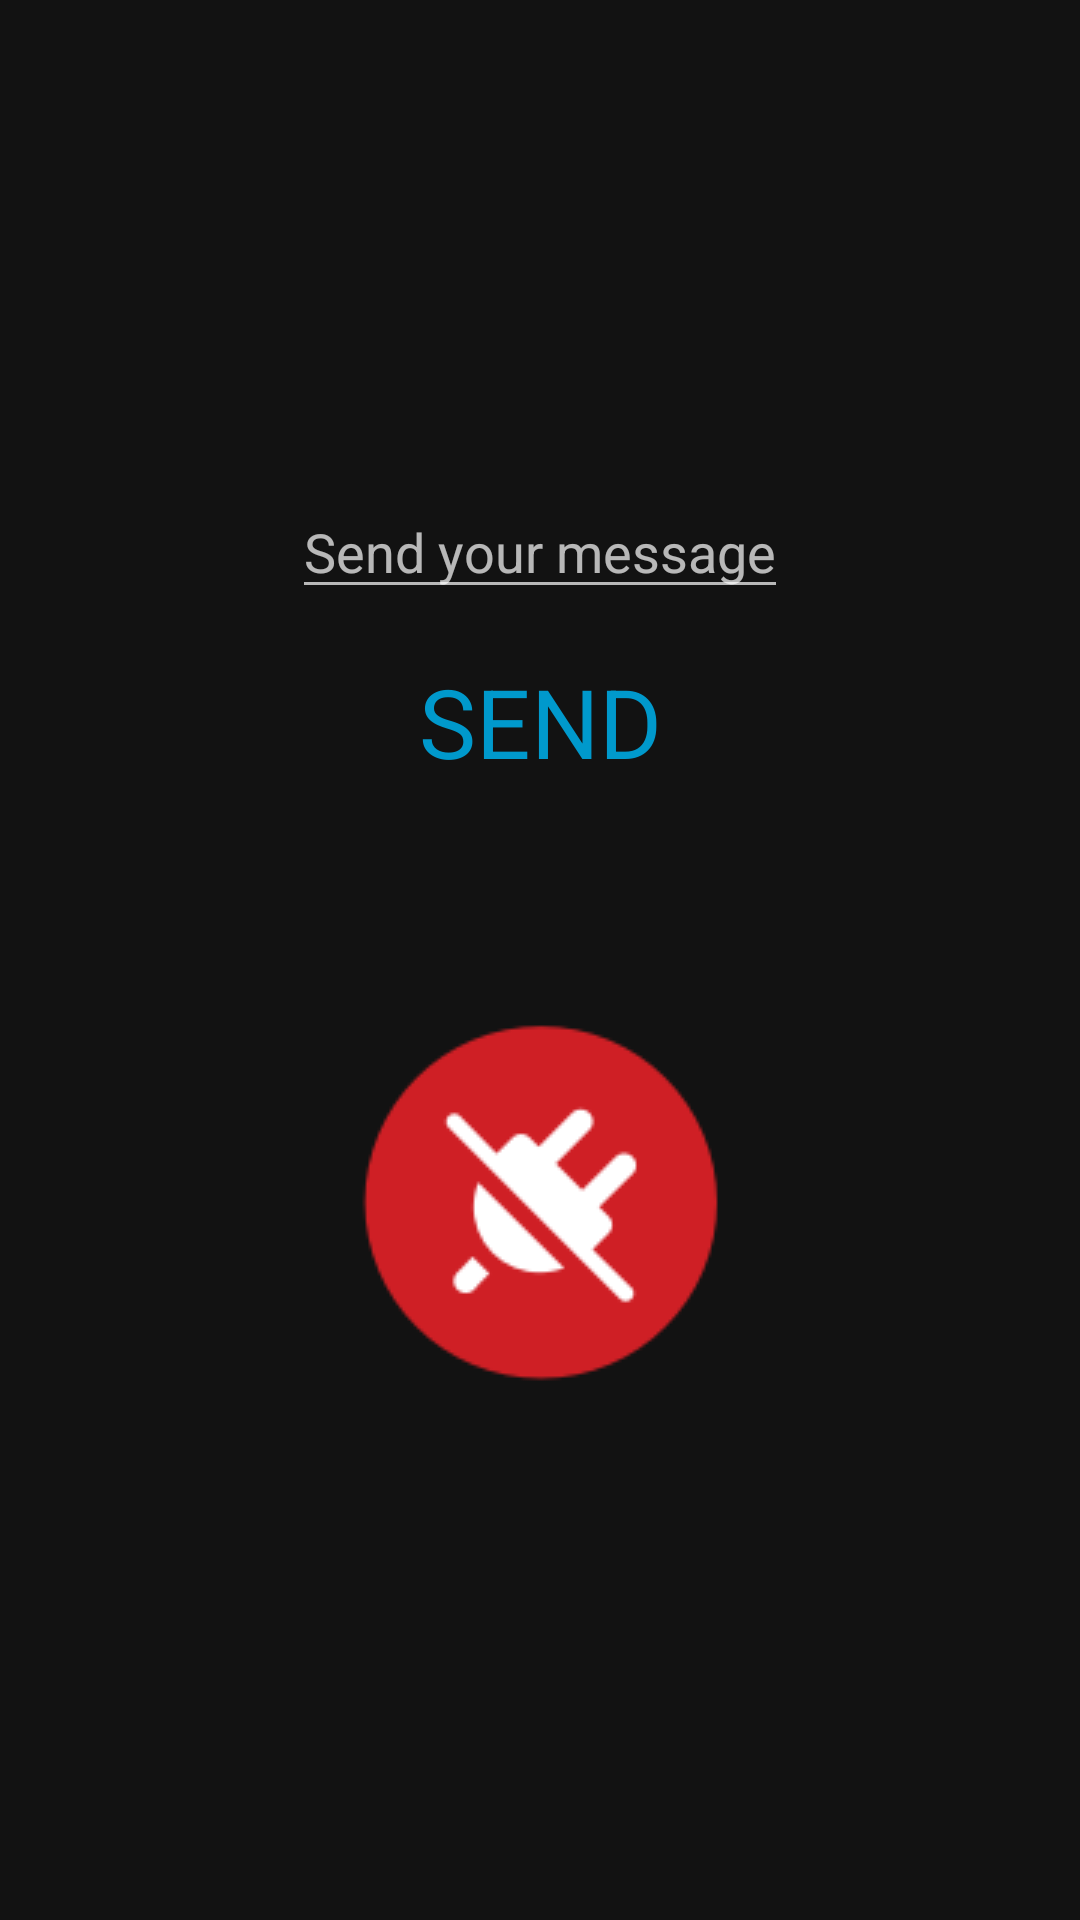

Named icons in this screenshot (1080x1920) and their bounding boxes, (x1, y1, x2, y2):
disconnect: (363, 1025, 718, 1381)
